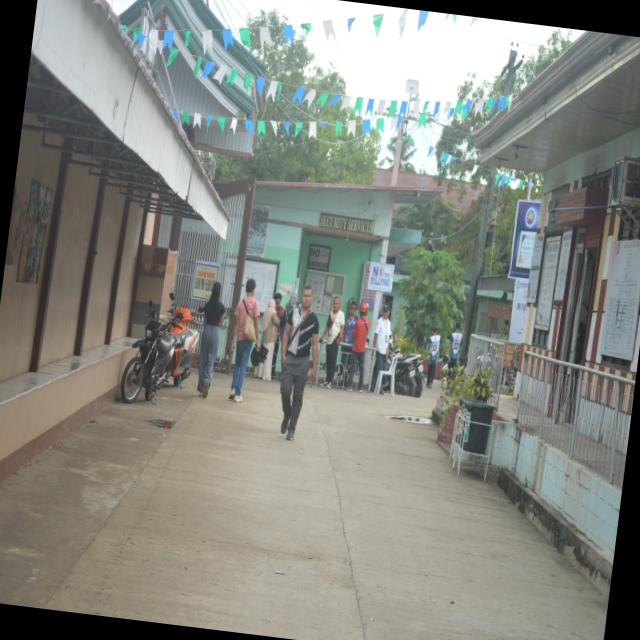person: (281, 286, 319, 440), (229, 279, 260, 402), (197, 283, 225, 398), (320, 297, 345, 388), (348, 302, 370, 392), (255, 299, 279, 381), (371, 305, 391, 391), (271, 293, 284, 377), (448, 321, 463, 377), (427, 326, 440, 387), (343, 300, 357, 344)
